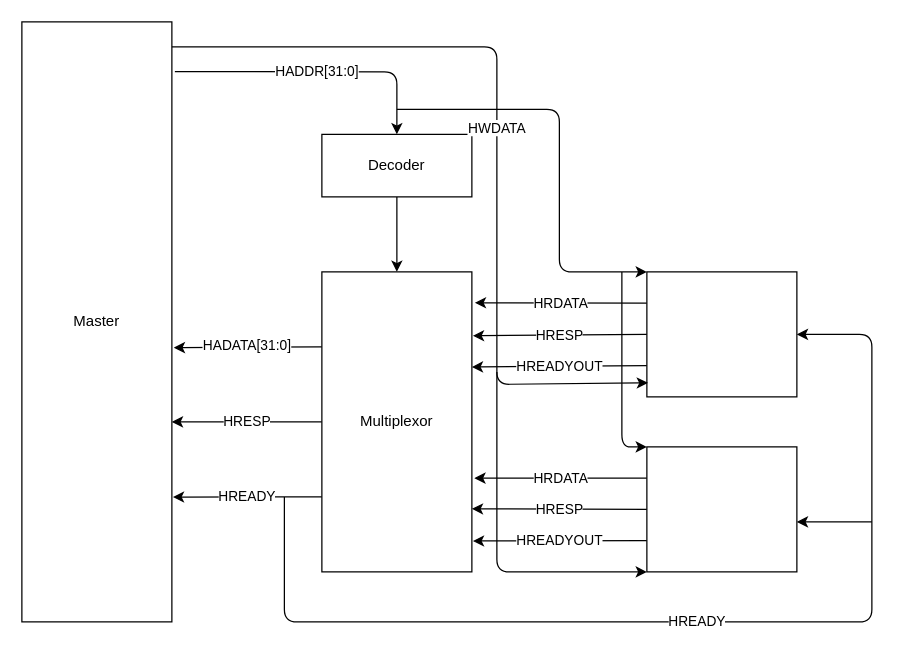
Image size: 904x654. Some labels were removed from this diagram. Here are the shapes that lost their labels. From the top down, the centre of each, then its label:
the point at 721,334: ROM
the point at 721,509: RAM
